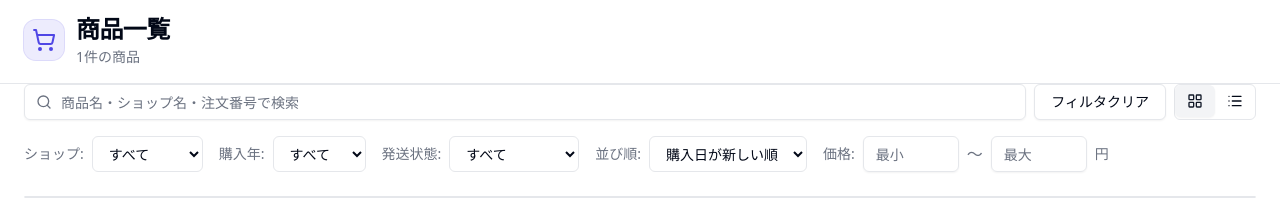
Scenario: Orders › clears filters when フィルタクリア is clicked
Expected: the text "1件の商品" is shown, [76,47,140,66]
Type "query" into the field with placeholder "商品名・ショップ名・注文番号で検索" at (525, 102), box [24,84,1026,120]
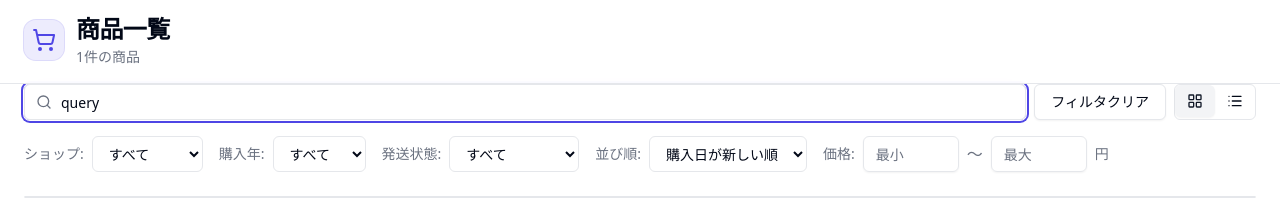
Click the button "フィルタクリア" at (1100, 102), box [1034,84,1166,120]
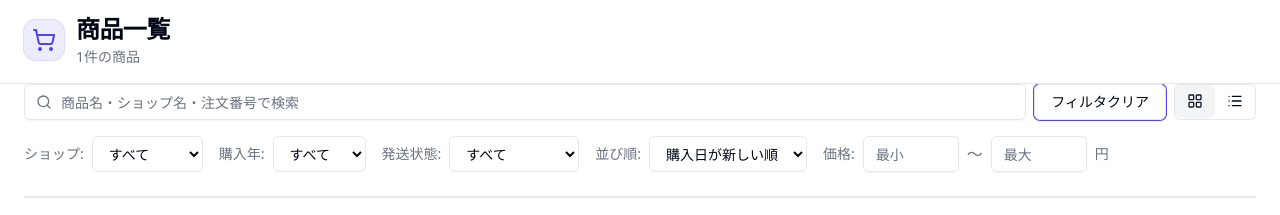
Expected: the field with placeholder "商品名・ショップ名・注文番号で検索" is empty, [24,84,1026,120]
